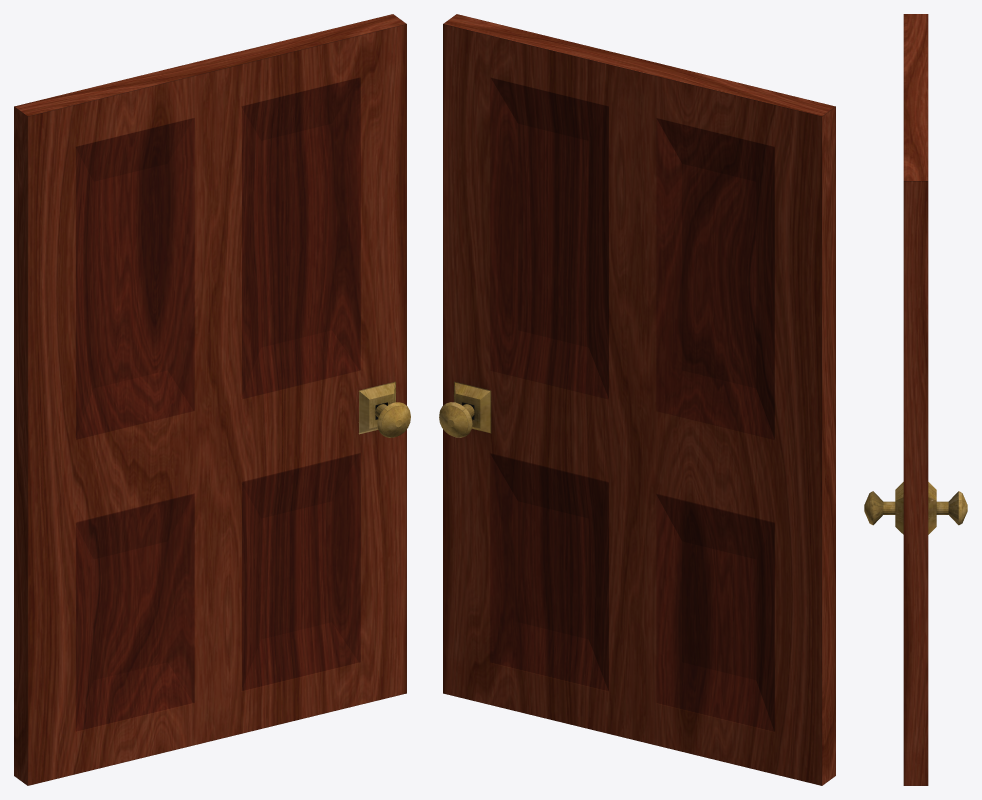
Rendered from deb_Door.fbx.
3 renders of one model, left to right at view 1: azimuth 30°, elevation 25°; view 2: azimuth 150°, elevation 25°; view 3: azimuth 270°, elevation 25°, orthographic. The views are drawn at different scales.
Parts seen in each view (by area): view 1: Door, knob; view 2: Door, knob; view 3: Door, knob.
Part boxes in pixels (x1,y1,x2,y2): Door: (14, 14, 406, 785); knob: (375, 402, 410, 437); Door: (443, 14, 835, 785); knob: (439, 402, 474, 437); Door: (895, 14, 936, 785); knob: (864, 491, 967, 525).
Size of the model in its own units: 8 by 13.5 by 2.08.
1 material, 1 textured.
